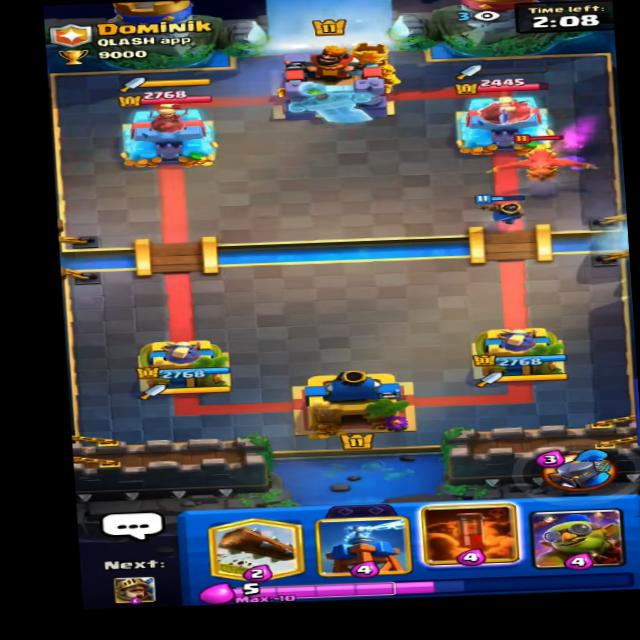phoenix: (484, 137, 601, 184)
